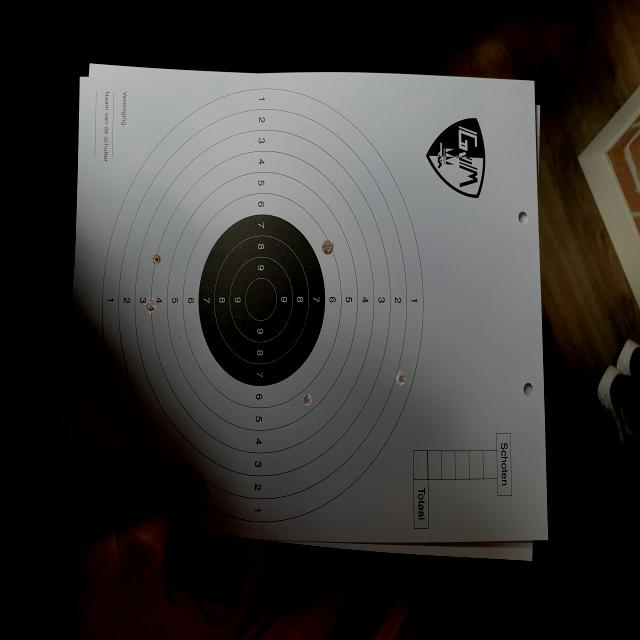1: (396, 371, 406, 386)
4: (145, 297, 156, 314), (152, 252, 162, 268)
5: (303, 393, 312, 406)
6: (322, 240, 334, 257)
Target: (102, 89, 424, 526)
black_contour: (199, 214, 325, 386)
